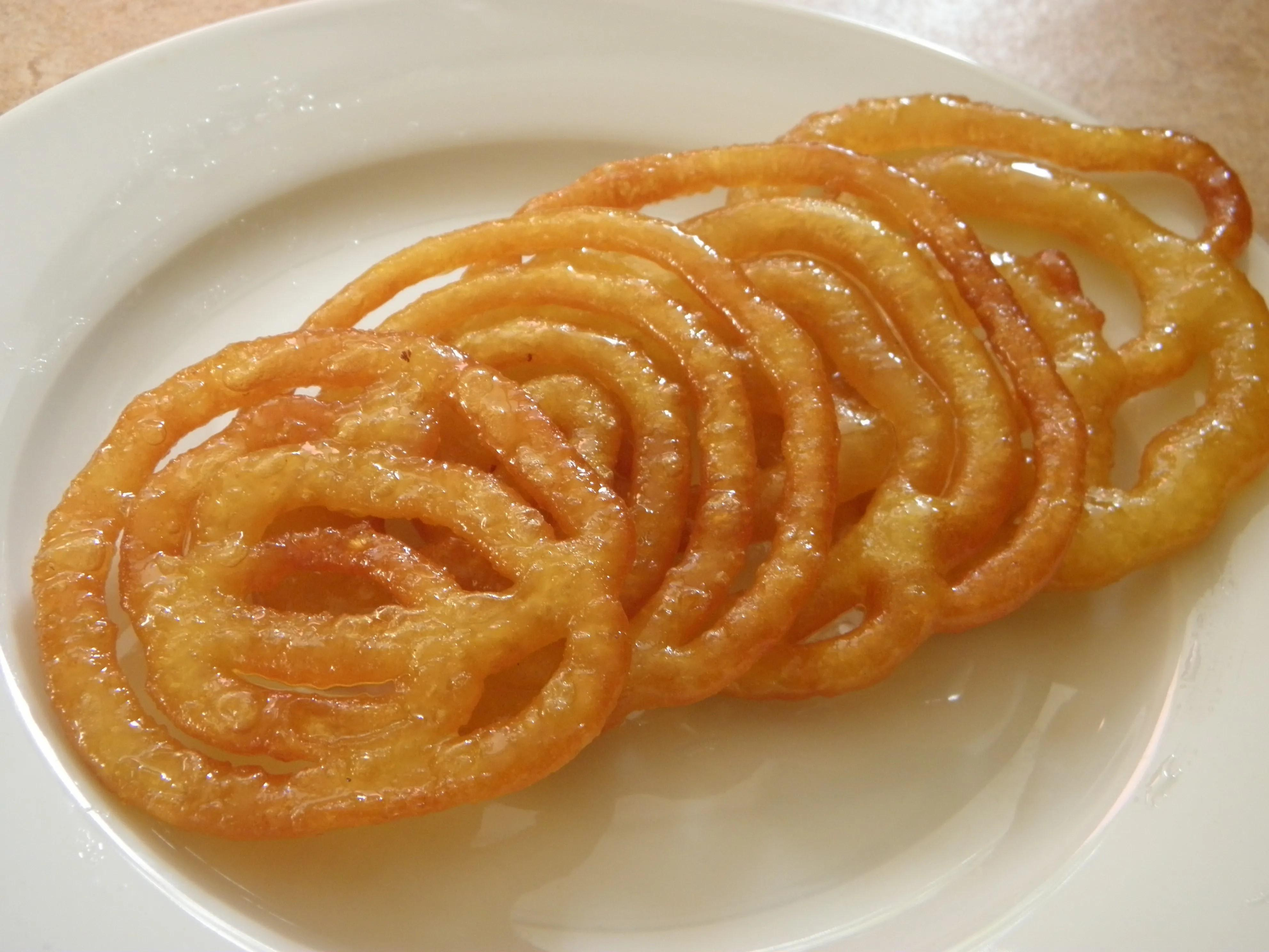Jalebi: (18, 79, 1255, 846)
